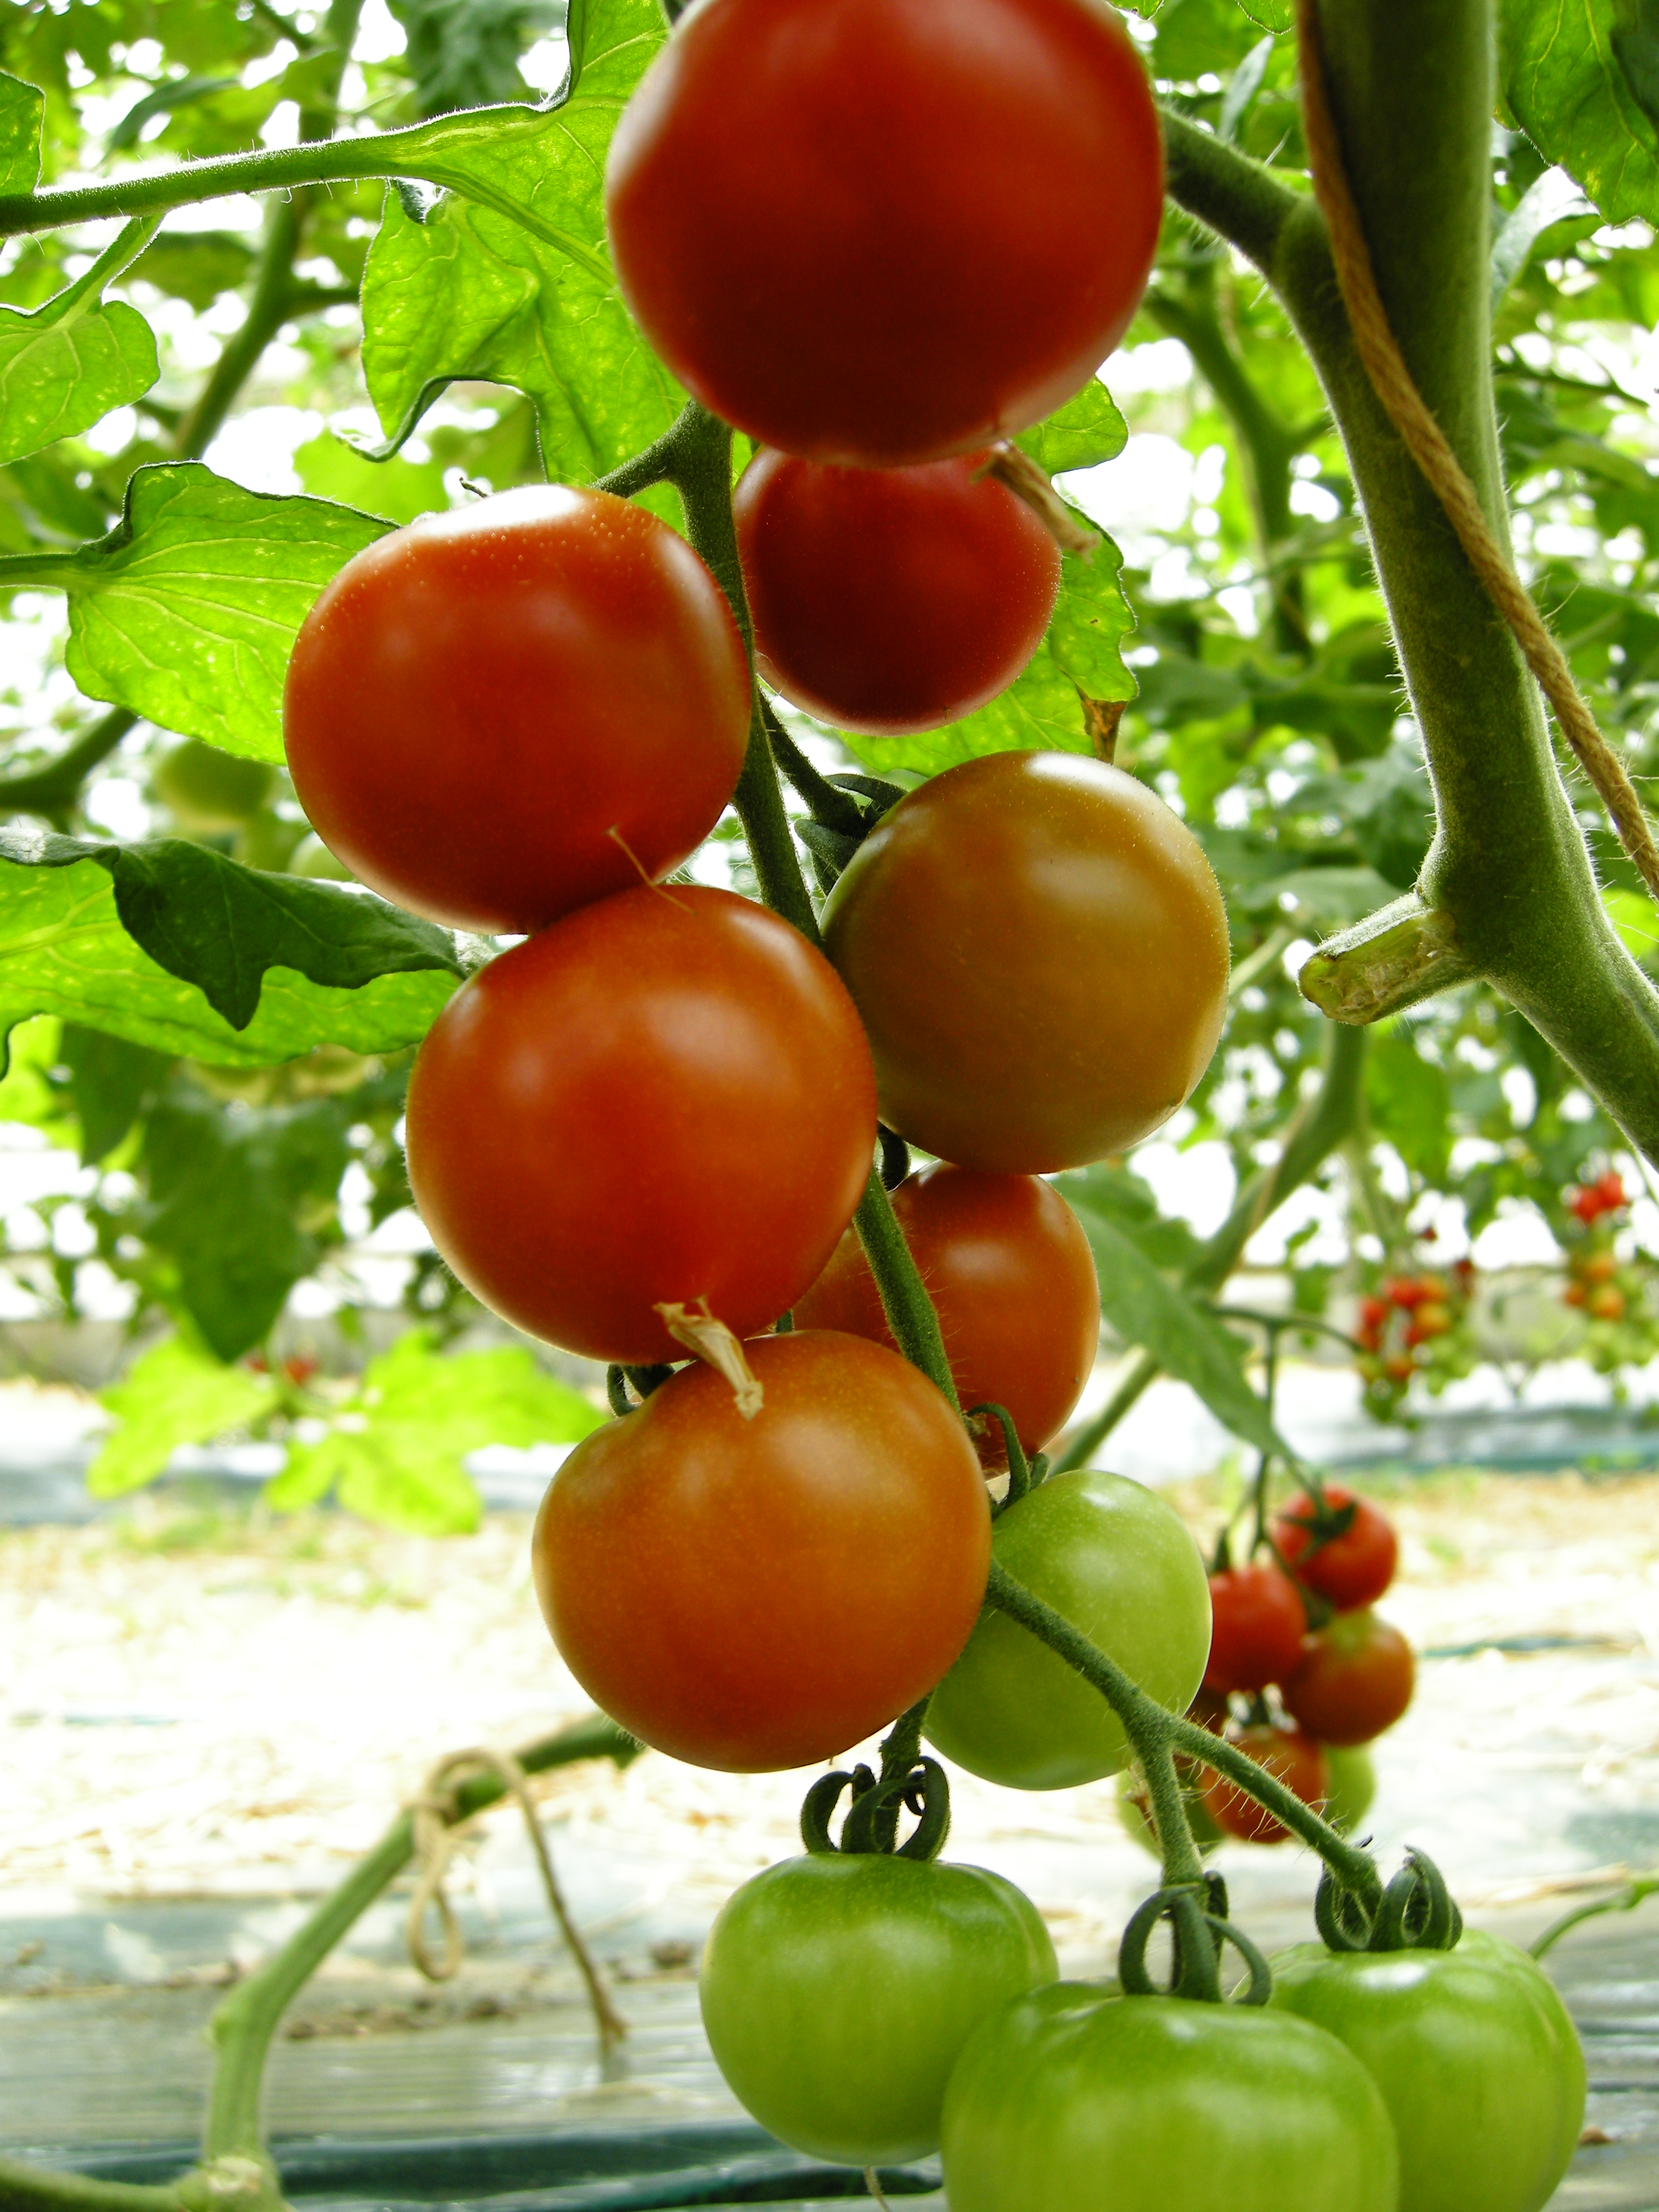tomato: (613, 0, 1187, 449), (267, 500, 758, 925), (410, 906, 871, 1357), (532, 1334, 995, 1761), (823, 745, 1244, 1170), (690, 1848, 1054, 2158), (1239, 1900, 1561, 2209)
